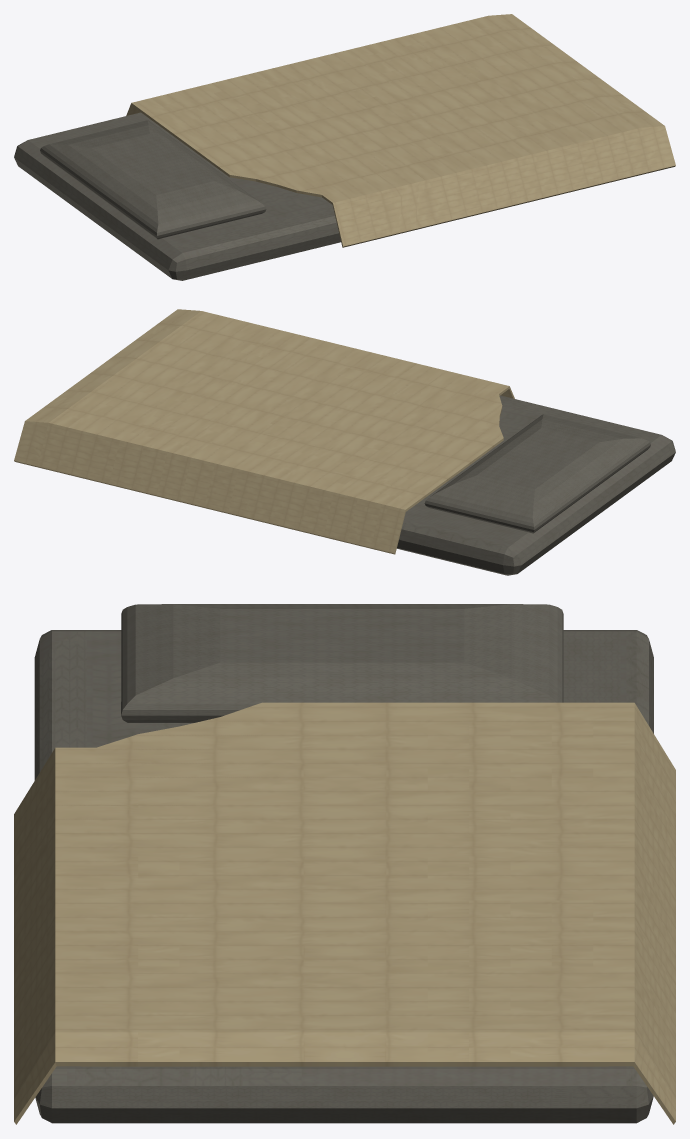
Rendered from Cama.fbx.
The picture shows the model from 3 angles, top to bottom: view 1: azimuth 30°, elevation 25°; view 2: azimuth 150°, elevation 25°; view 3: azimuth 270°, elevation 25°; orthographic projection. The views are drawn at different scales.
Parts seen in each view (by area): view 1: Lençol, Cama, Travesseiro; view 2: Lençol, Travesseiro, Cama; view 3: Lençol, Cama, Travesseiro.
Boxes of the visible parts, x1,y1,x2,y2 form: Lençol: (126, 14, 675, 247); Cama: (14, 112, 340, 280); Travesseiro: (40, 120, 266, 239); Lençol: (14, 309, 514, 554); Travesseiro: (424, 414, 650, 533); Cama: (397, 395, 675, 575); Lençol: (14, 702, 675, 1124); Cama: (34, 630, 653, 1123); Travesseiro: (121, 604, 563, 722).
Size of the model in its own units: 210 by 19.47 by 127.
Materials: 2 (2 with a texture image).
